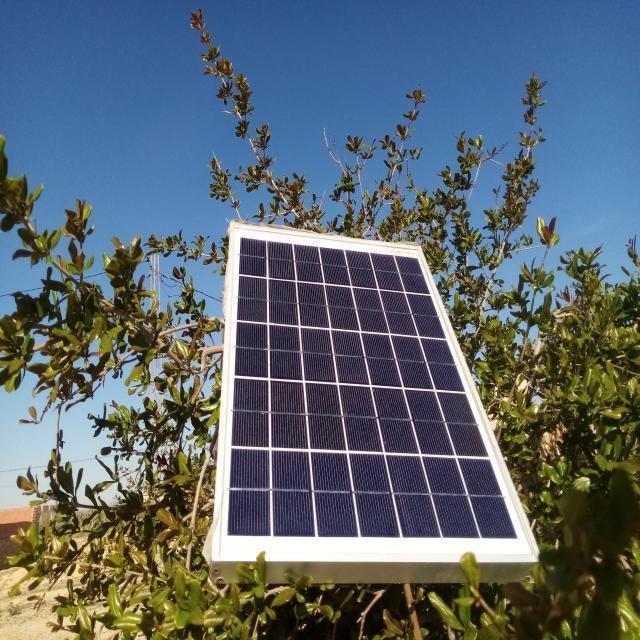Normal Solar Panel: (215, 224, 537, 576)
